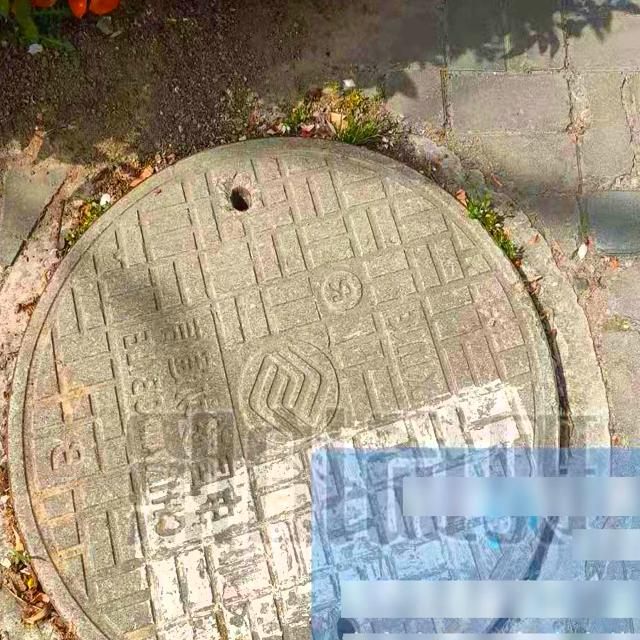circle: (0, 104, 579, 640)
